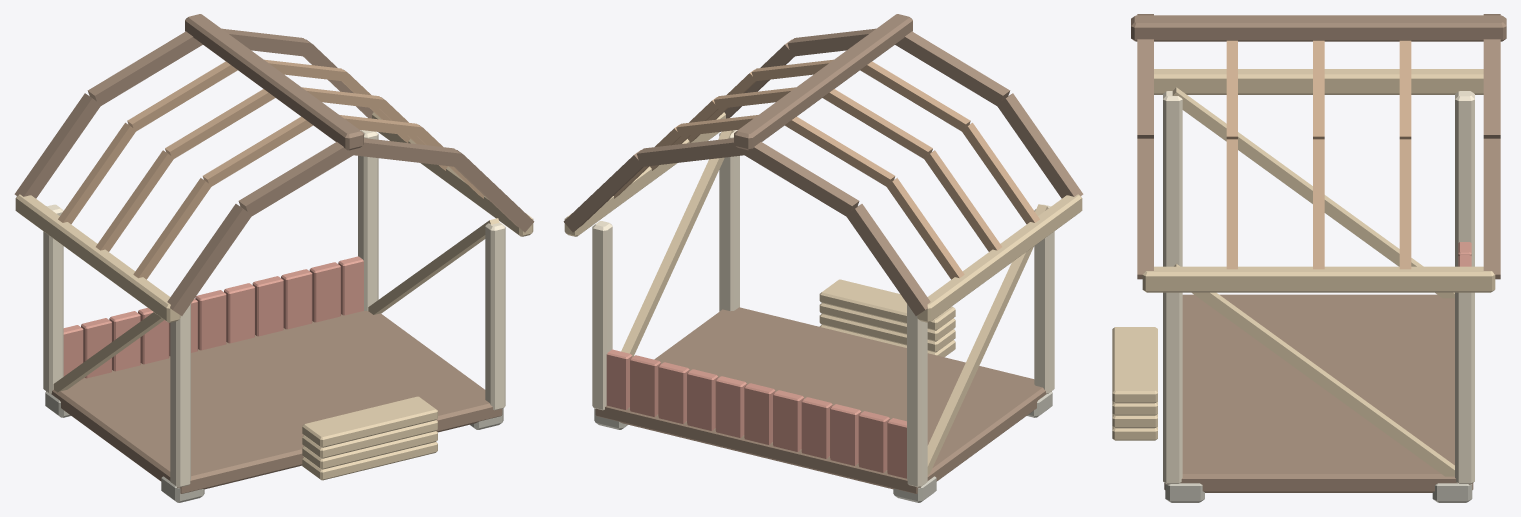
The model's file is crafted-barn-1-building.glb.
The picture shows the model from 3 angles, left to right: view 1: azimuth 30°, elevation 25°; view 2: azimuth 150°, elevation 25°; view 3: azimuth 270°, elevation 25°; orthographic projection. The views are drawn at different scales.
Visible parts, largest first — view 1: floor, ridge-cap, eave-fascia, corner-post-3, corner-post-1, building-plank-stack-3, corner-post, corner-post-2, barge-board-1, barge-board, barge-board-3, barge-board-2 (+29 smaller); view 2: floor, ridge-cap, eave-fascia, corner-post, corner-post-2, frame-brace, corner-post-3, corner-post-1, frame-brace-1, building-plank-stack-3, barge-board, barge-board-1 (+29 smaller); view 3: floor, ridge-cap, eave-fascia-1, eave-fascia, frame-brace-1, frame-brace, corner-post-2, corner-post-3, building-plank-stack-3, corner-post-1, corner-post, barge-board-6 (+14 smaller).
Boxes of the visible parts, x1,y1,x2,y2 form: floor: (46,311,502,493); ridge-cap: (185,14,363,150); eave-fascia: (15,194,180,322); corner-post-3: (485,222,505,410); corner-post-1: (170,304,190,487); building-plank-stack-3: (302,396,437,447); corner-post: (43,204,63,393); corner-post-2: (358,130,378,311); barge-board-1: (167,204,251,315); barge-board: (14,93,101,198); barge-board-3: (238,142,355,216); barge-board-2: (87,31,201,106); floor: (595,307,1051,493); ridge-cap: (734,14,912,150); eave-fascia: (917,194,1082,322); corner-post: (907,304,927,487); corner-post-2: (592,221,612,410); frame-brace: (927,204,1048,474); corner-post-3: (719,130,739,311); corner-post-1: (1034,204,1054,393); frame-brace-1: (621,130,733,356); building-plank-stack-3: (819,279,955,330); barge-board: (845,204,930,315); barge-board-1: (997,93,1083,198); floor: (1164,294,1473,492); ridge-cap: (1131,15,1506,41); eave-fascia-1: (1142,266,1495,292); eave-fascia: (1154,69,1483,94); frame-brace-1: (1174,263,1454,476); frame-brace: (1172,87,1454,298); corner-post-2: (1455,292,1474,484); corner-post-3: (1163,292,1182,484); building-plank-stack-3: (1112,327,1157,403); corner-post-1: (1163,91,1182,266); corner-post: (1455,91,1474,266); barge-board-6: (1483,138,1500,279).
Size of the model in its own units: 2.33 by 2.08 by 1.89.
